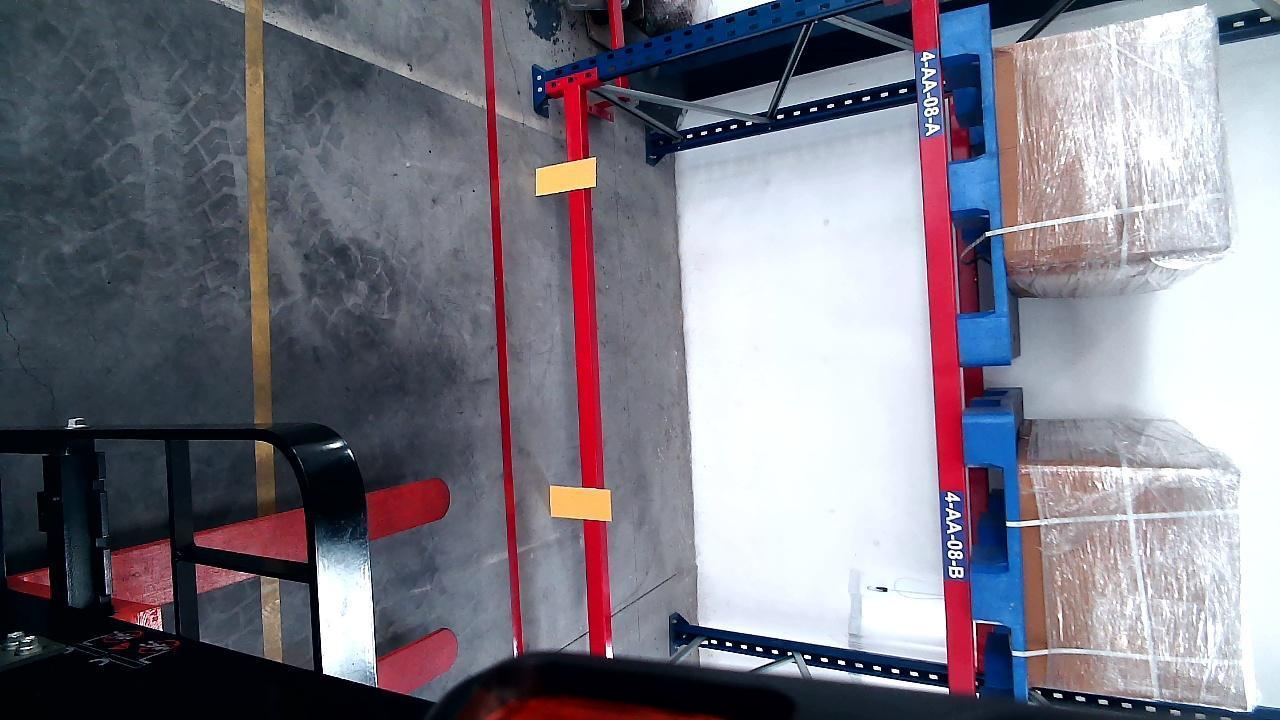h_rack: (916, 0, 972, 689), (564, 83, 608, 651)
orange_strip: (534, 157, 596, 195), (548, 485, 611, 519)
small_pallet: (942, 3, 1009, 364), (967, 419, 1026, 690)
yellow_line: (247, 0, 271, 419)
